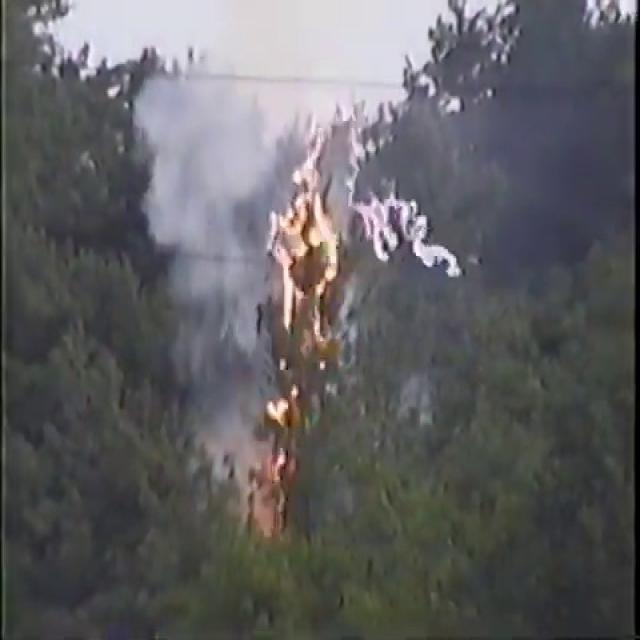Smoke: (133, 0, 278, 501)
